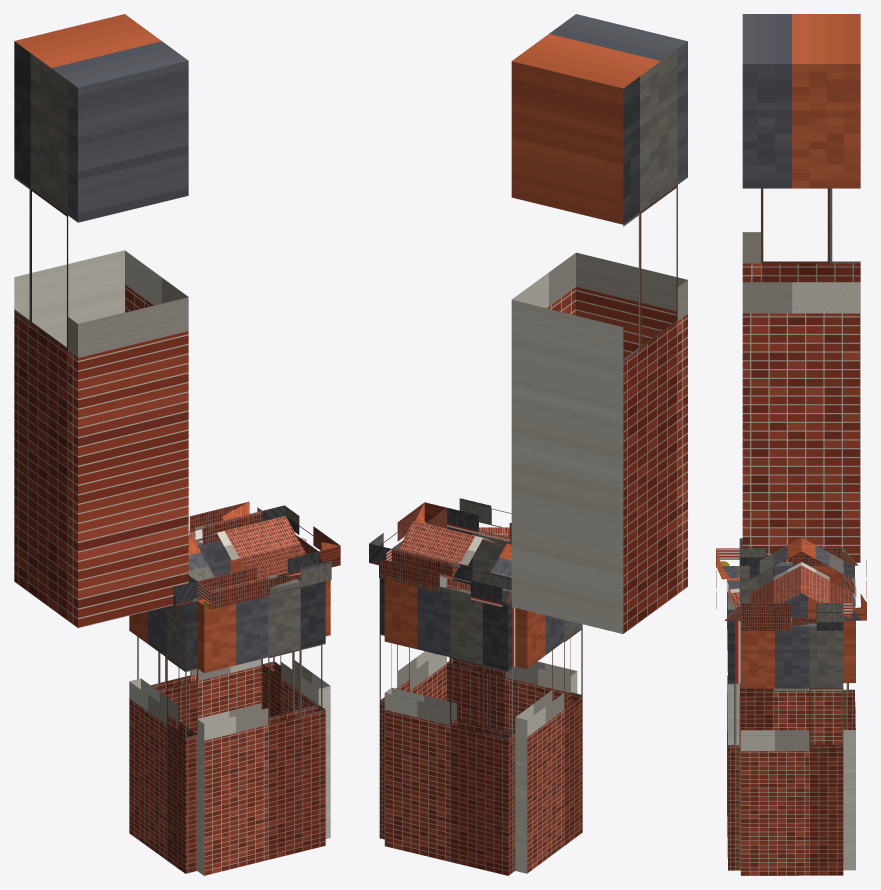
3 renders of one model, left to right at view 1: azimuth 30°, elevation 25°; view 2: azimuth 150°, elevation 25°; view 3: azimuth 270°, elevation 25°, orthographic. The views are drawn at different scales.
Visible parts, largest first — view 1: 1106965486__chimney_0_xb, 1106965486__wall_2_xb, 1106965486__wall_3_xb, 1106965486__wall_0_xb, 1106965486_roof_-1_xb, 1106965486__wall_1_xb, 1106965486__cornice_2, 1106965486__cornice_0, 1106965486__cornice_1; view 2: 1106965486__chimney_0_xb, 1106965486__wall_0_xb, 1106965486__wall_3_xb, 1106965486__wall_2_xb, 1106965486__cornice_0, 1106965486__wall_1_xb, 1106965486_roof_1_xb, 1106965486__cornice_2, 1106965486__cornice_1; view 3: 1106965486__chimney_0_xb, 1106965486__wall_1_xb, 1106965486__wall_3_xb, 1106965486__wall_2_xb, 1106965486__wall_0_xb, 1106965486__cornice_1, 1106965486_roof_1_xb, 1106965486_roof_-1_xb, 1106965486__cornice_2, 1106965486__cornice_3, 1106965486__cornice_0.
Part boxes in pixels (x1,y1,x2,y2): 1106965486__chimney_0_xb: [14, 14, 188, 628]; 1106965486__wall_2_xb: [197, 577, 325, 875]; 1106965486__wall_3_xb: [129, 601, 197, 873]; 1106965486__wall_0_xb: [137, 538, 261, 734]; 1106965486_roof_-1_xb: [188, 516, 306, 581]; 1106965486__wall_1_xb: [262, 573, 330, 838]; 1106965486__cornice_2: [197, 551, 331, 609]; 1106965486__cornice_0: [188, 501, 262, 545]; 1106965486__cornice_1: [262, 505, 340, 567]; 1106965486__chimney_0_xb: [511, 14, 687, 633]; 1106965486__wall_0_xb: [384, 579, 515, 875]; 1106965486__wall_3_xb: [515, 608, 582, 873]; 1106965486__wall_2_xb: [447, 527, 577, 733]; 1106965486__cornice_0: [379, 549, 511, 607]; 1106965486__wall_1_xb: [379, 527, 446, 839]; 1106965486_roof_1_xb: [398, 521, 511, 601]; 1106965486__cornice_2: [447, 498, 511, 542]; 1106965486__cornice_1: [369, 502, 446, 565]; 1106965486__chimney_0_xb: [742, 14, 860, 562]; 1106965486__wall_1_xb: [740, 623, 843, 875]; 1106965486__wall_3_xb: [740, 563, 842, 744]; 1106965486__wall_2_xb: [727, 566, 740, 870]; 1106965486__wall_0_xb: [842, 565, 855, 870]; 1106965486__cornice_1: [740, 603, 843, 630]; 1106965486_roof_1_xb: [801, 538, 853, 620]; 1106965486_roof_-1_xb: [750, 538, 801, 609]; 1106965486__cornice_2: [716, 548, 740, 620]; 1106965486__cornice_3: [739, 538, 842, 565]; 1106965486__cornice_0: [842, 548, 866, 620].
Bounding box in the file's own units: 0.3547 × 1.05 × 0.1916.
1 material, 1 textured.
